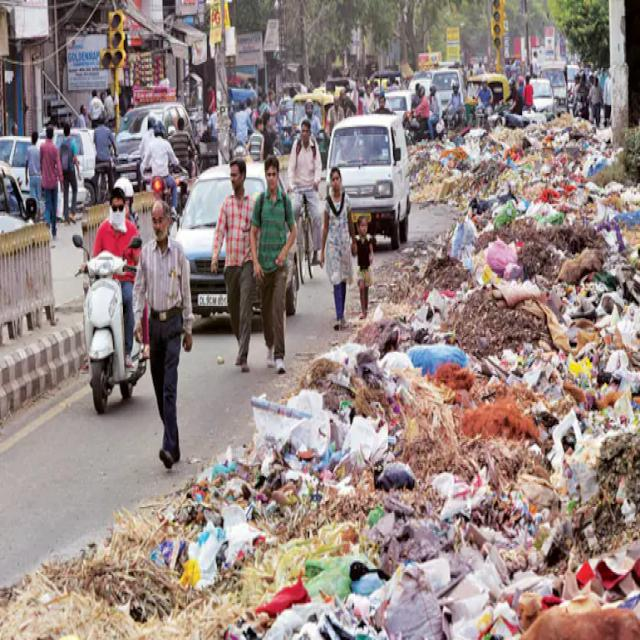garbage: (152, 142, 640, 640)
